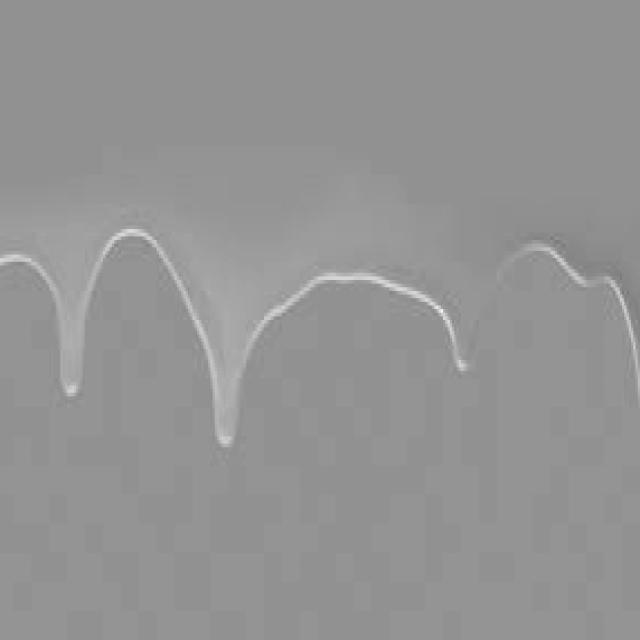paint drips: (0, 193, 638, 480)
